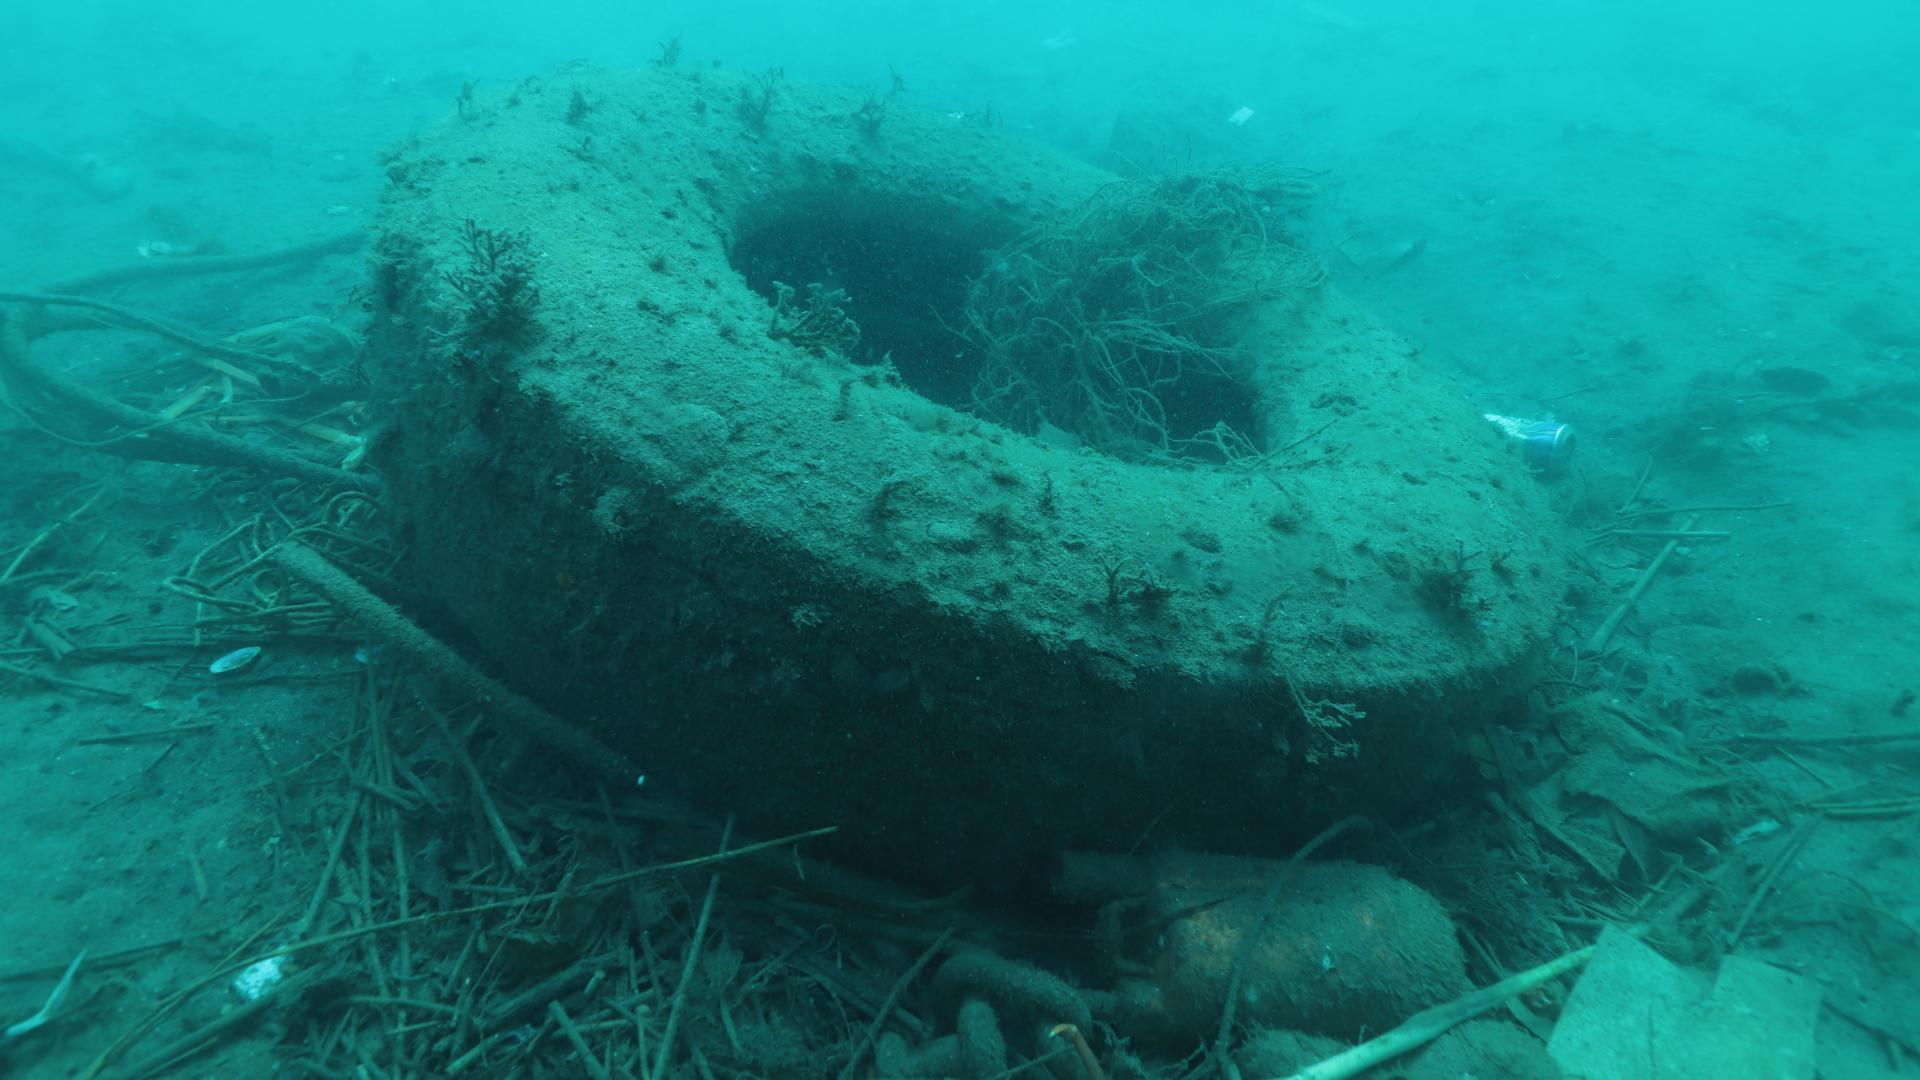tire: (371, 63, 1571, 874)
